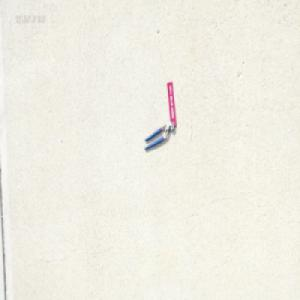Label: (166, 80, 177, 127)
Pliers: (143, 120, 174, 151)
